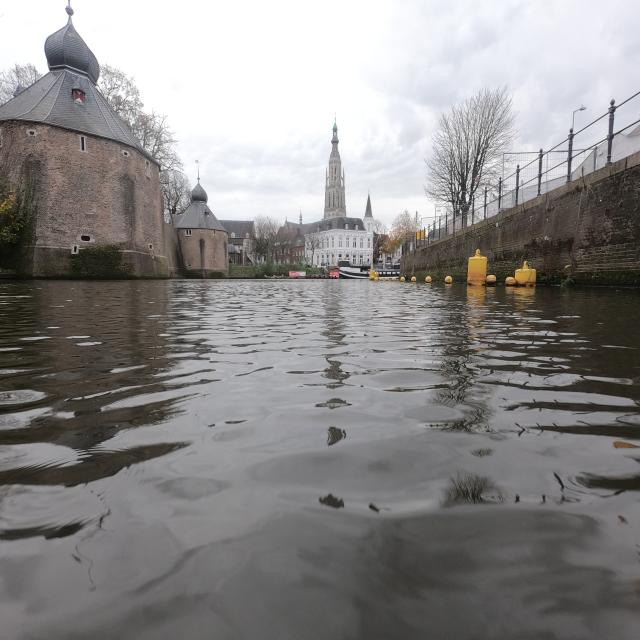sky: (74, 2, 638, 220), (2, 2, 66, 68)
tree: (424, 87, 517, 222)
wall: (4, 22, 234, 274), (400, 154, 638, 284)
water: (4, 290, 634, 636)
